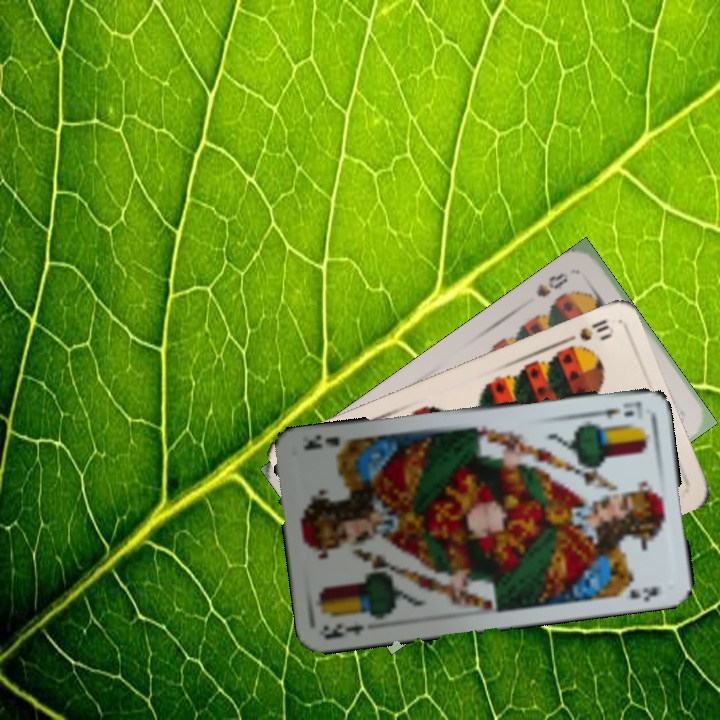EK: (585, 397, 645, 420), (322, 620, 367, 642)
S10: (558, 315, 614, 347)
S8: (532, 268, 571, 300)
